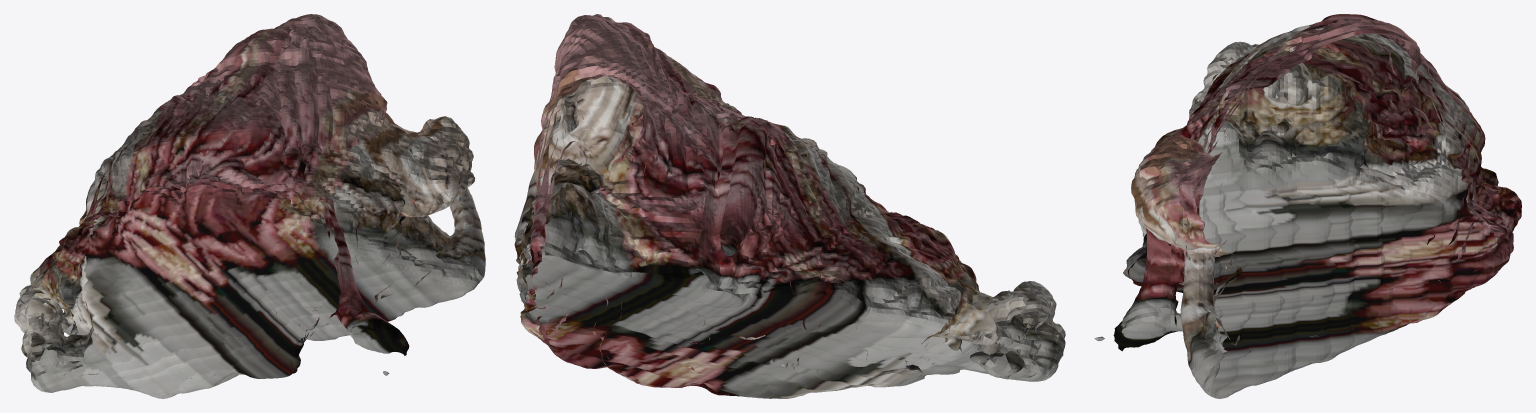
File: caesar_fallen_clean.glb
The picture shows the model from 3 angles, left to right: view 1: azimuth 30°, elevation 25°; view 2: azimuth 150°, elevation 25°; view 3: azimuth 270°, elevation 25°; orthographic projection. The views are drawn at different scales.
Visible parts, largest first — view 1: world; view 2: world; view 3: world.
Boxes of the visible parts, x1,y1,x2,y2 form: world: (14, 14, 485, 398); world: (514, 14, 1065, 398); world: (1094, 14, 1521, 398).
Bounding box in the file's own units: 1.06 × 0.6185 × 0.7221.
